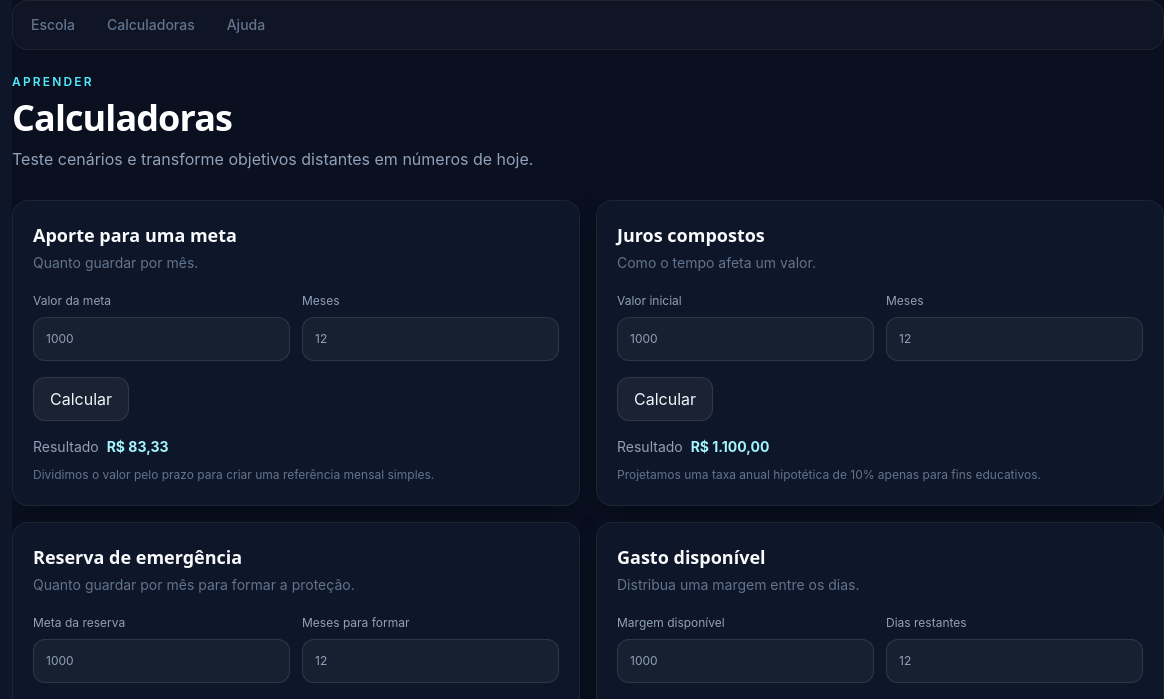
updates a calculator result only after explicit calculate action
The width and height of the screenshot is (1164, 699).
Expected: the navigation bar named "Seções da área" is shown, [12,0,1163,50]
Replace the text in the number field labelled "Valor da meta" with "2400" at point(162, 339), box [33,317,290,361]
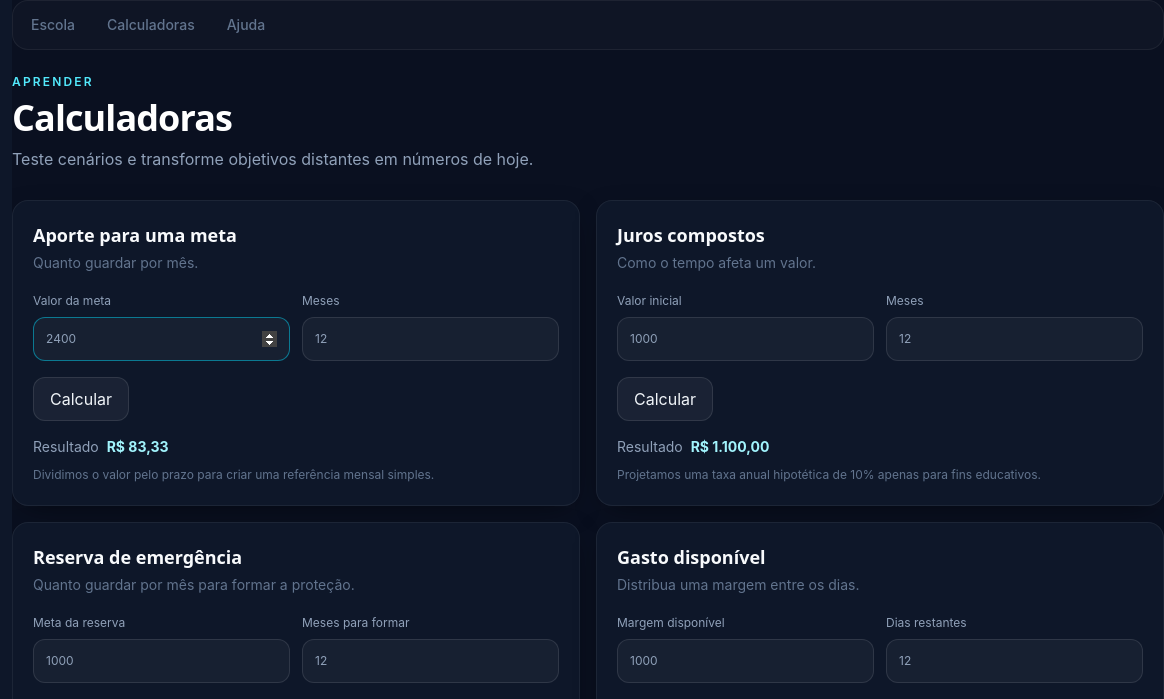
Click the button with aria-label "Calcular aporte para uma meta" at point(81, 399), box [33,377,129,421]
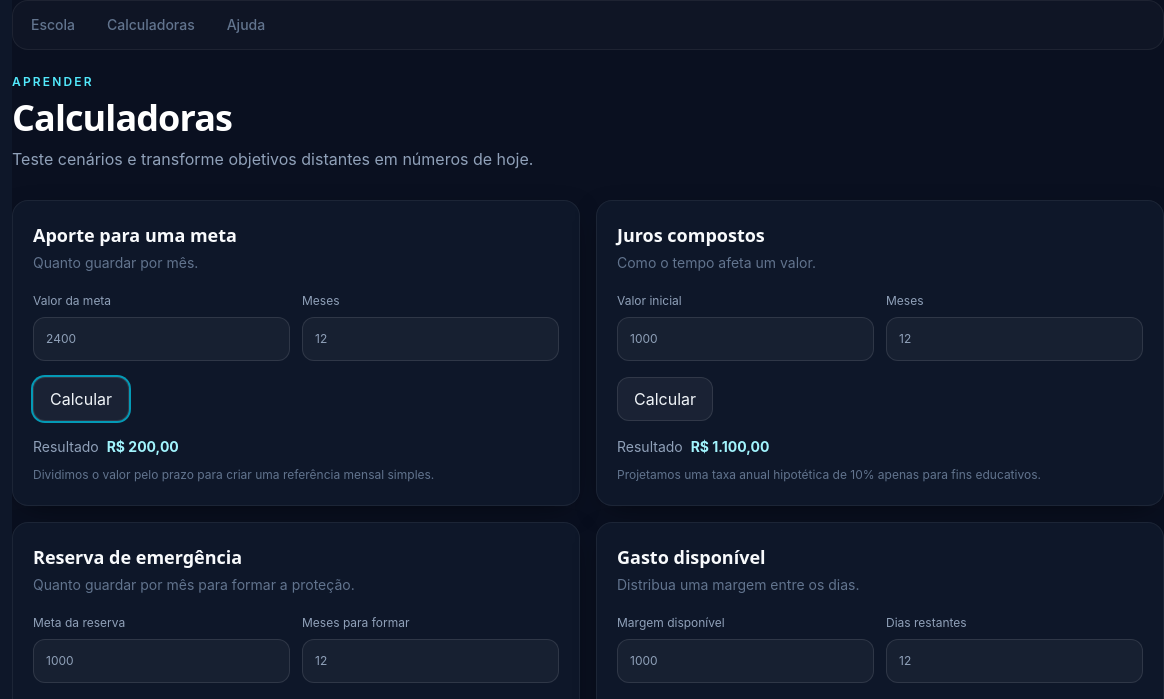
Expected: the text "Dividimos o valor pelo prazo" is shown, [33,467,434,482]
Expected: the text "R$ 200,00" is shown, [107,438,179,455]
